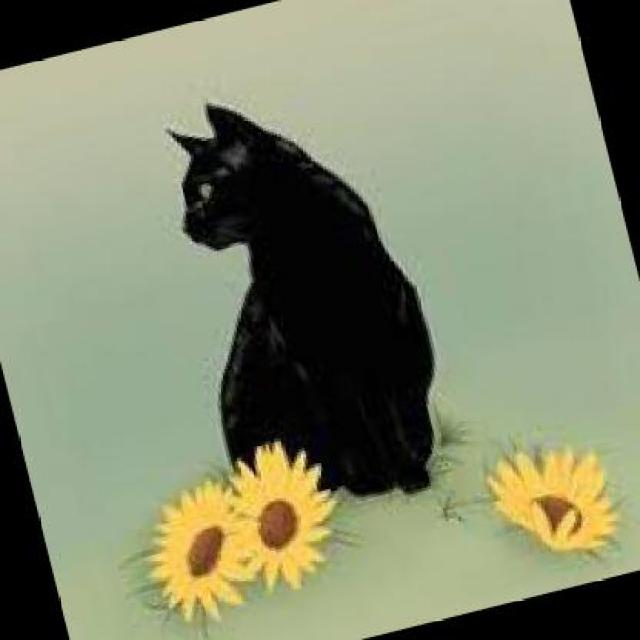animals: (132, 62, 476, 510)
